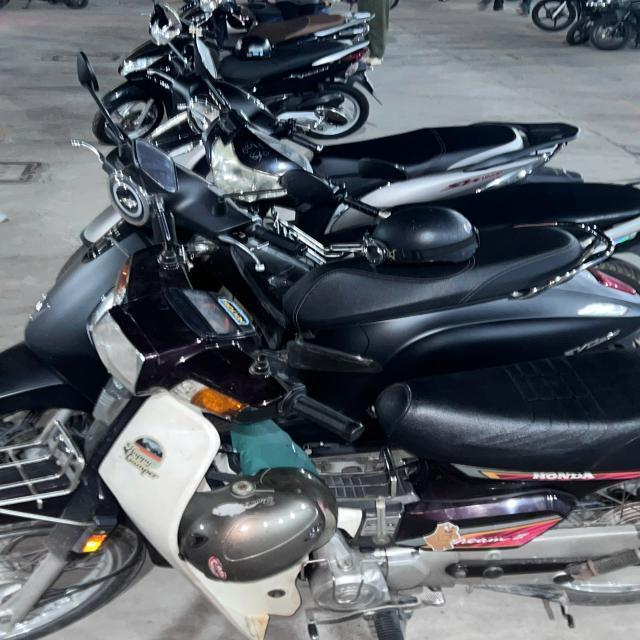motorcycle: (0, 278, 640, 640), (4, 118, 640, 336), (91, 3, 373, 142), (576, 0, 637, 54)
